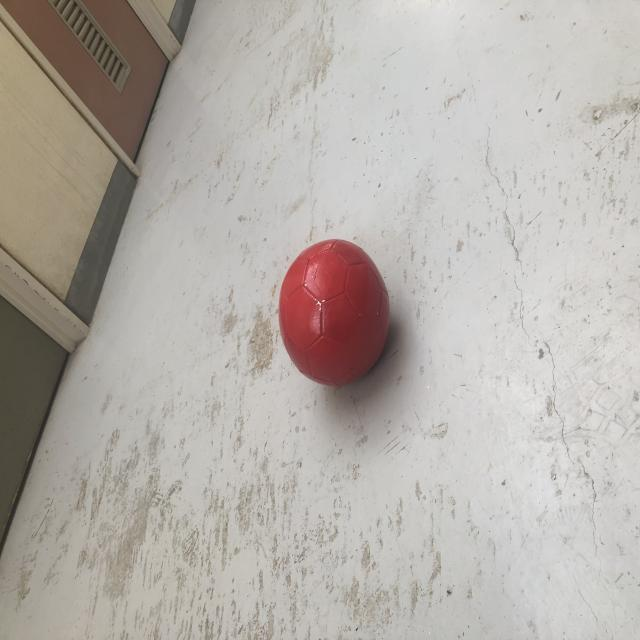red_ball: (279, 242, 392, 386)
